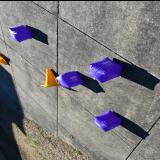cone: (40, 68, 61, 86), (0, 52, 8, 64)
cube: (88, 56, 124, 82), (93, 109, 123, 131), (55, 70, 85, 88), (8, 24, 32, 42)
